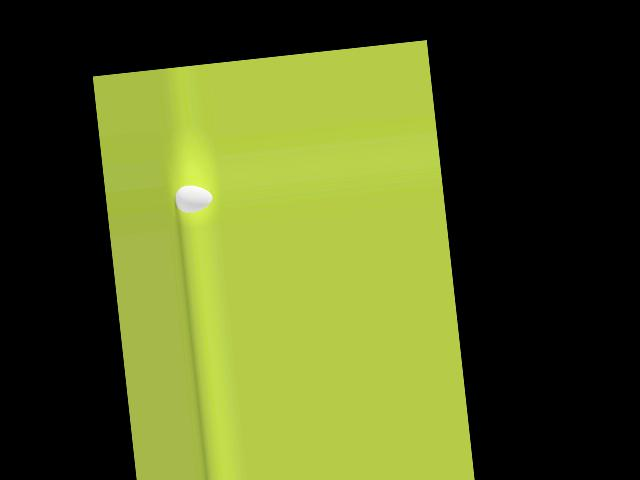egg: (173, 183, 214, 214)
